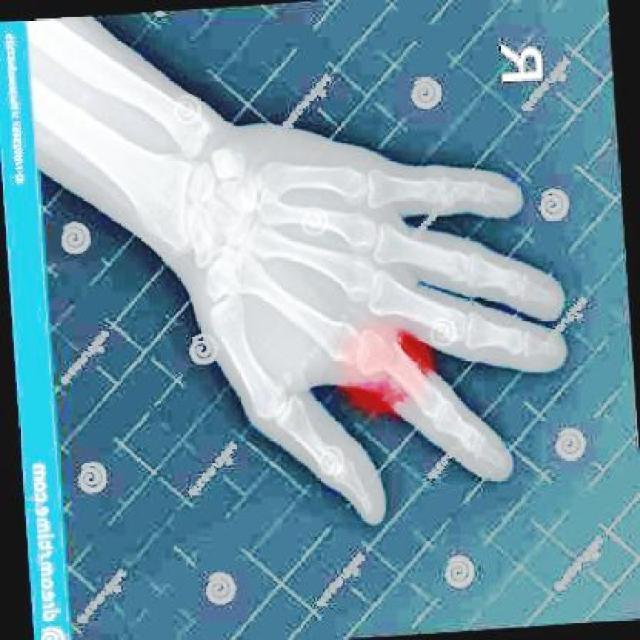Fracture: (366, 328, 419, 382)
